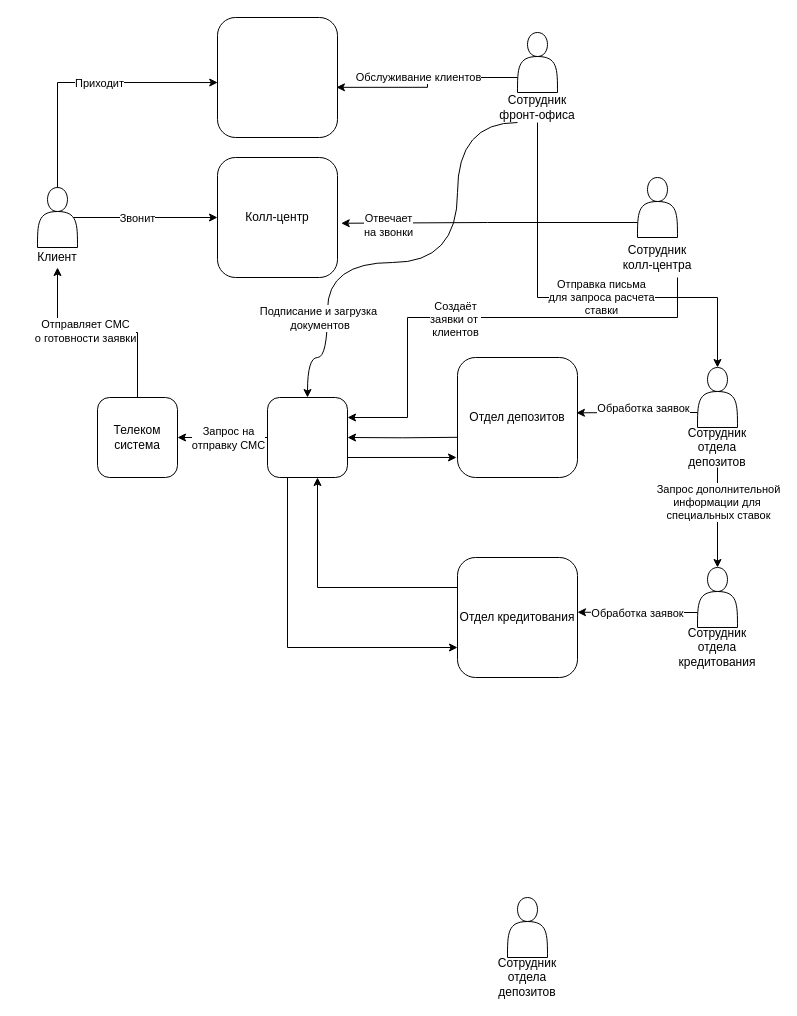
This 797x1016 diagram has some shape labels left out. The shapes that lost their labels are listed below. From the top down, each one's centre as x and y in pixels, then its label:
At (277,77): "Отделение банка".
At (307,437): "АБС".
